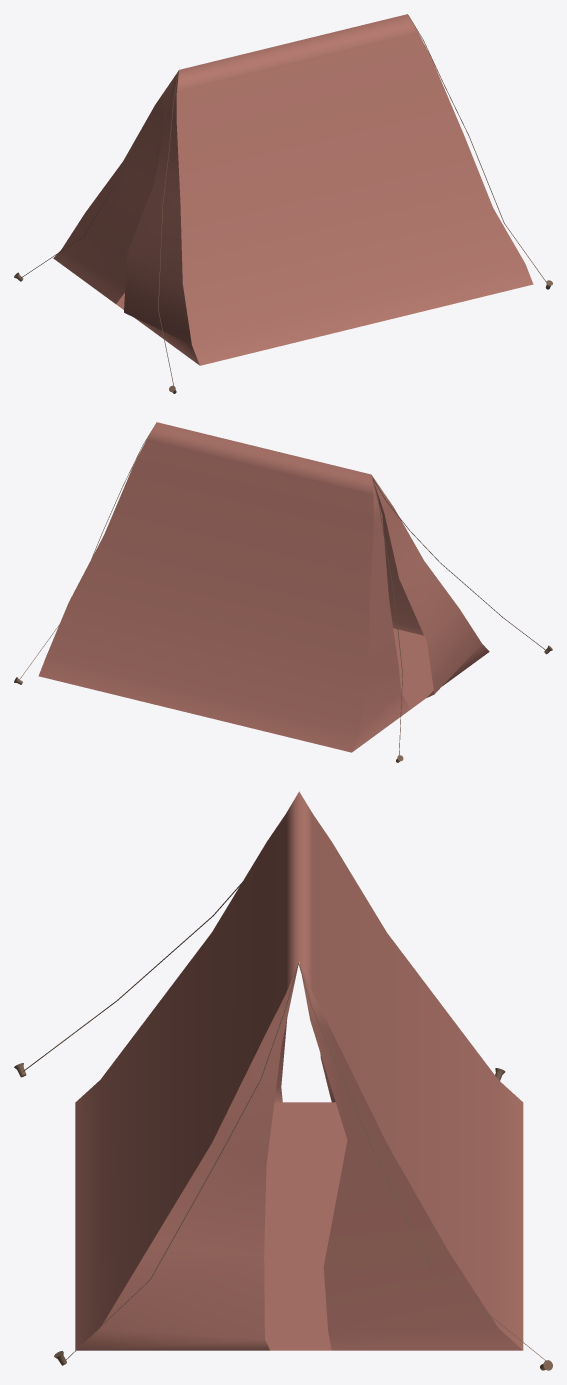
Rendered from tent 2.fbx.
3 renders of one model, top to bottom at view 1: azimuth 30°, elevation 25°; view 2: azimuth 150°, elevation 25°; view 3: azimuth 270°, elevation 25°, orthographic. The views are drawn at different scales.
Parts seen in each view (by area): view 1: pCube1; view 2: pCube1; view 3: pCube1.
Boxes of the visible parts, x1=… form: pCube1: x1=53, y1=14, x2=533, y2=365; pCube1: x1=38, y1=422, x2=489, y2=752; pCube1: x1=75, y1=791, x2=523, y2=1350.
Size of the model in its own units: 6.57 by 3.71 by 5.02.
